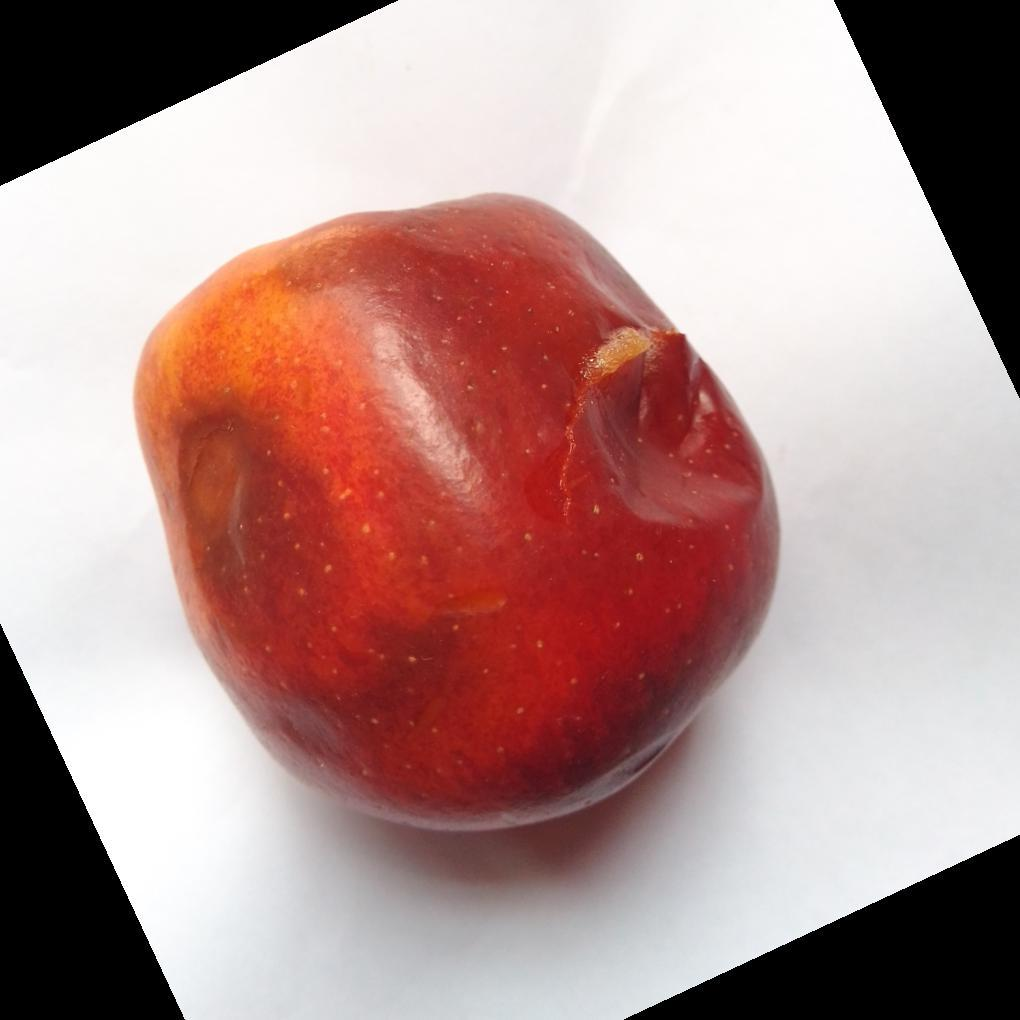FreshOrange: (131, 194, 782, 838)
